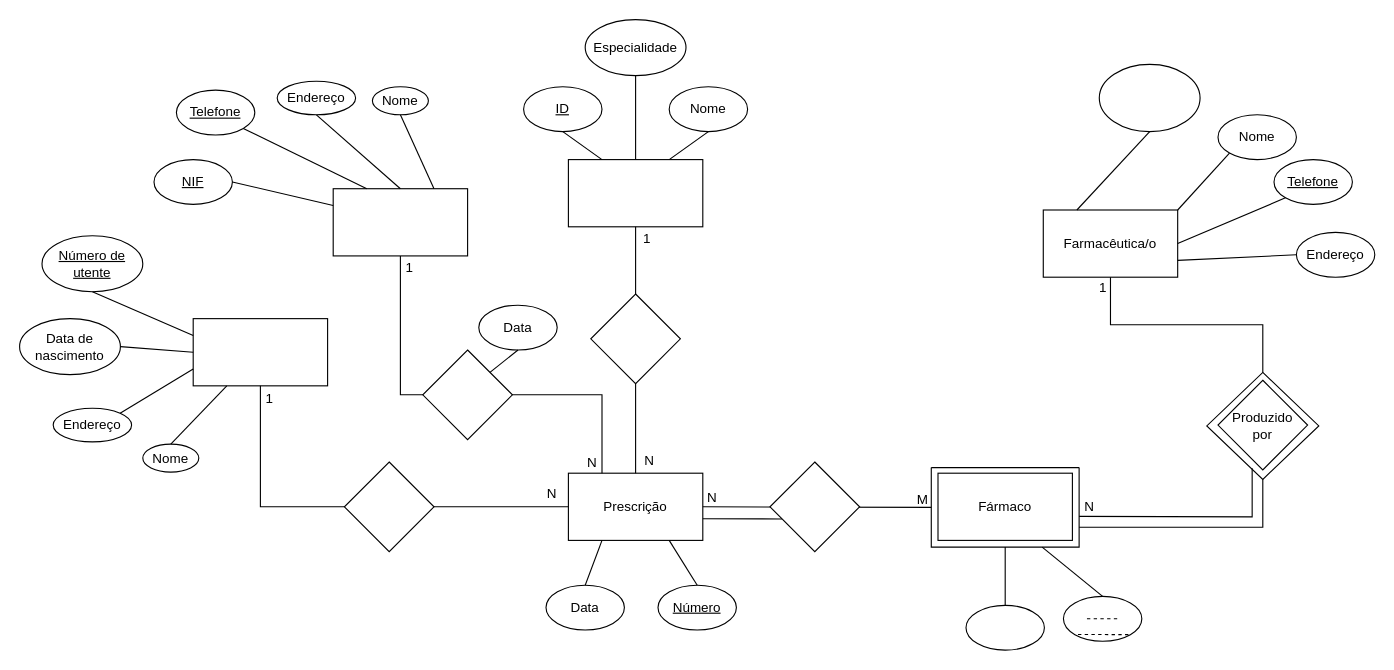
This 1394x670 diagram has some shape labels left out. Here are the shapes that lost their labels. From the top down, the centre of each, then its label:
At point (1149, 97): "Número de registo nacional".
At point (635, 192): "Médico".
At point (400, 222): "Farmácia".
At point (260, 352): "Paciente".
At point (635, 338): "Passa".
At point (467, 394): "Processa".
At point (388, 506): "Feita Para".
At point (814, 506): "Contém".
At point (1004, 627): "Fórmula".
At point (1102, 618): "Nome comercial".
